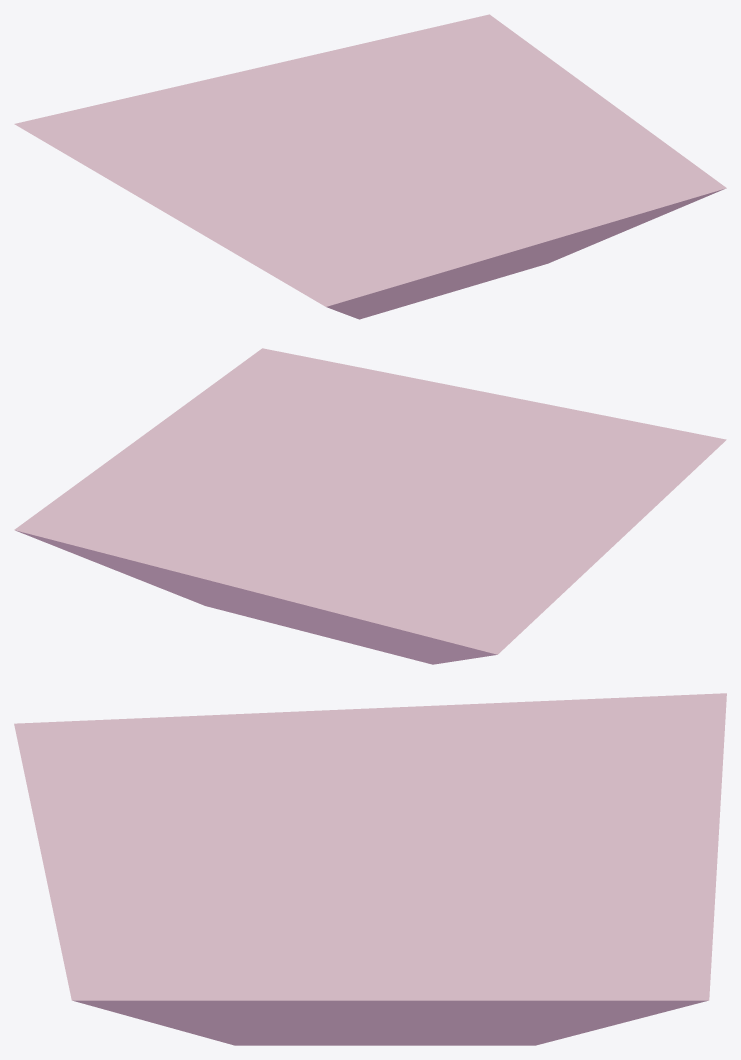
File: crooked_platform.glb
The picture shows the model from 3 angles, top to bottom: view 1: azimuth 30°, elevation 25°; view 2: azimuth 150°, elevation 25°; view 3: azimuth 270°, elevation 25°; orthographic projection. The views are drawn at different scales.
Parts seen in each view (by area): view 1: crooked; view 2: crooked; view 3: crooked.
Part boxes in pixels (left/top/right/bottom): crooked: left=14, top=14, right=726, bottom=319; crooked: left=14, top=348, right=726, bottom=664; crooked: left=14, top=693, right=726, bottom=1045.
Bounding box in the file's own units: 5.25 × 0.9763 × 5.15.
